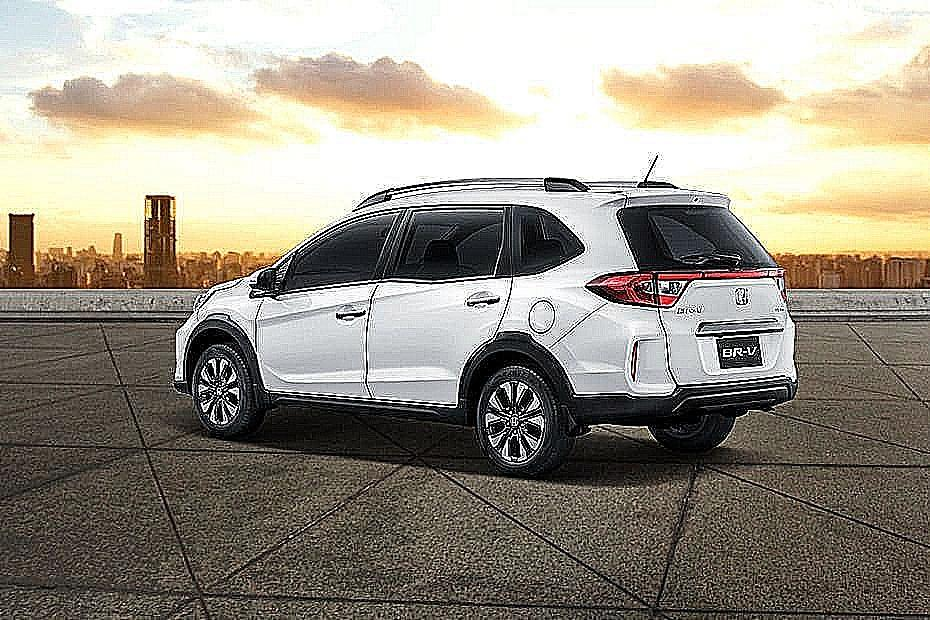Car boot: (618, 187, 786, 388)
Fender - -F-L-: (196, 260, 278, 357)
Fender - -R-L-: (482, 246, 608, 362)
Front bumper: (168, 300, 206, 397)
Passenger-s door - -F-L-: (249, 180, 416, 420)
Passenger-s door - -R-L-: (361, 176, 518, 417)
Rear bumper: (544, 305, 804, 427)
Rear light - -L-: (583, 268, 699, 309)
Side bumper - -L-: (249, 367, 480, 438)
Side mirror - -L-: (247, 265, 286, 306)
